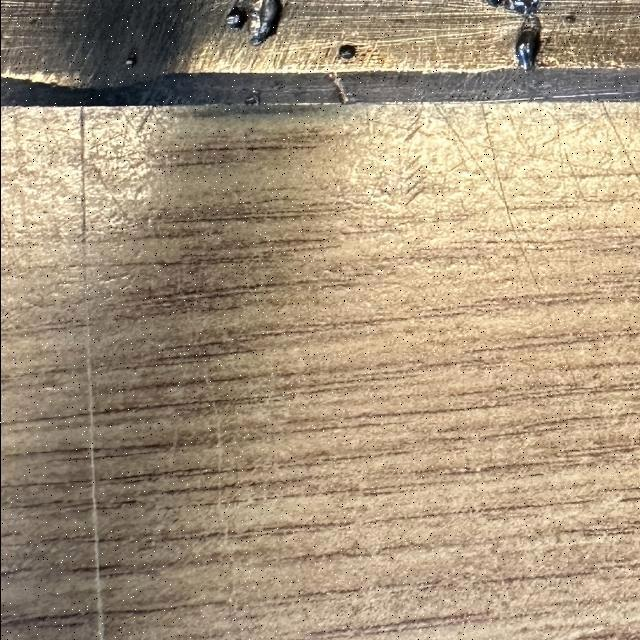Excess Reinforcement: (486, 0, 540, 15)
Spatters: (248, 0, 280, 45), (515, 16, 540, 70), (327, 72, 348, 104), (225, 8, 247, 30), (338, 44, 357, 60), (245, 91, 260, 105), (563, 14, 577, 24), (126, 58, 135, 66)
